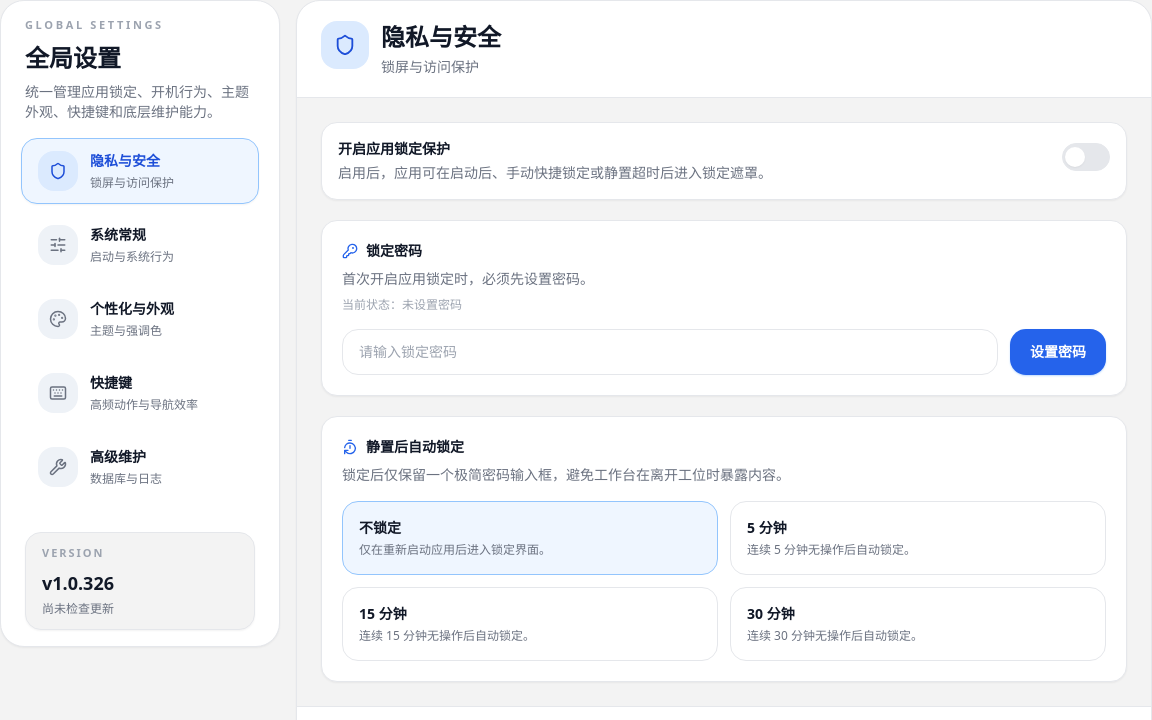
warns instead of enabling lock protection before a password exists
Step 1. Click the checkbox "开启应用锁定保护" → (724, 161), box [321,122,1127,200]
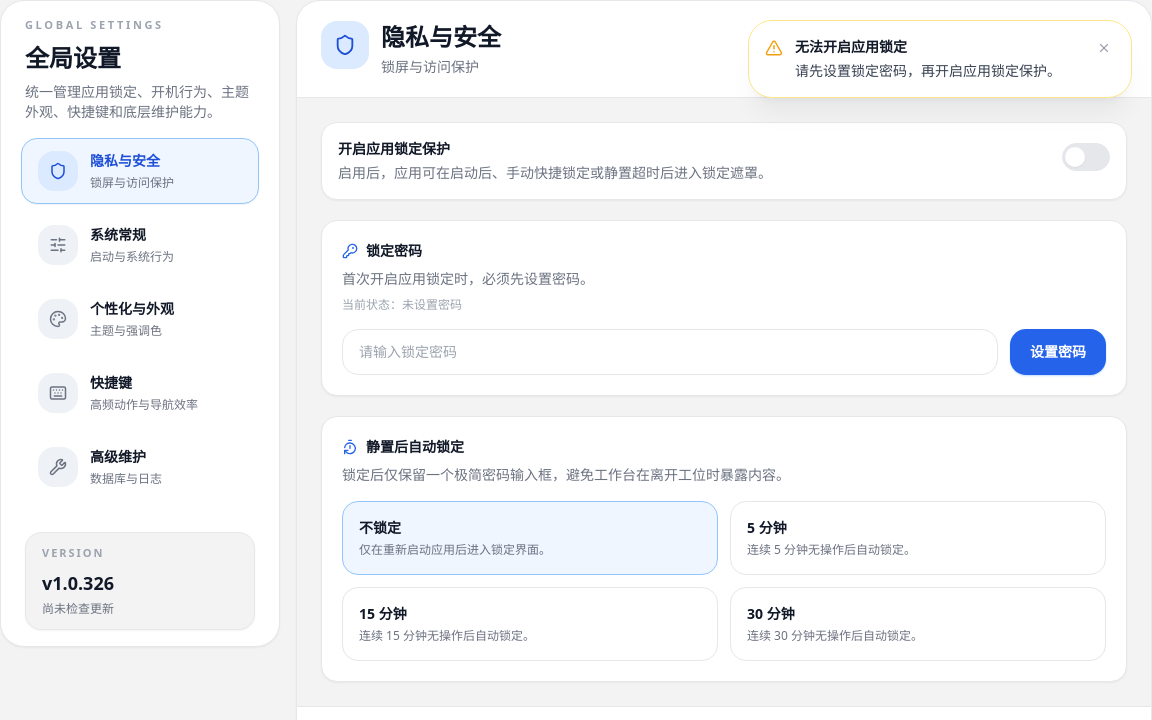
Expected: the text "无法开启应用锁定" is shown, [795,37,907,56]
Expected: the text "请先设置锁定密码，再开启应用锁定保护。" is shown, [795,61,1081,81]
